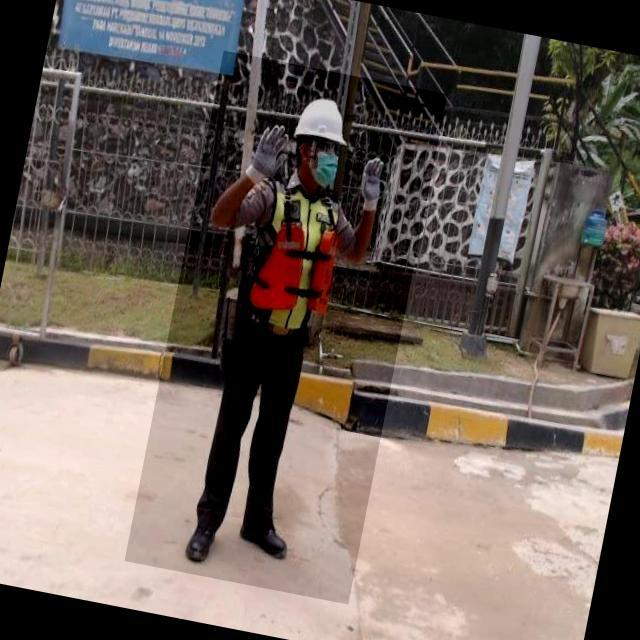Gloves: (243, 115, 295, 191), (353, 157, 395, 212)
Helmet: (289, 91, 359, 156)
Person: (163, 70, 405, 580)
Safety Boot: (232, 504, 299, 565), (179, 498, 228, 571)
Safety Vest: (226, 173, 353, 347)
